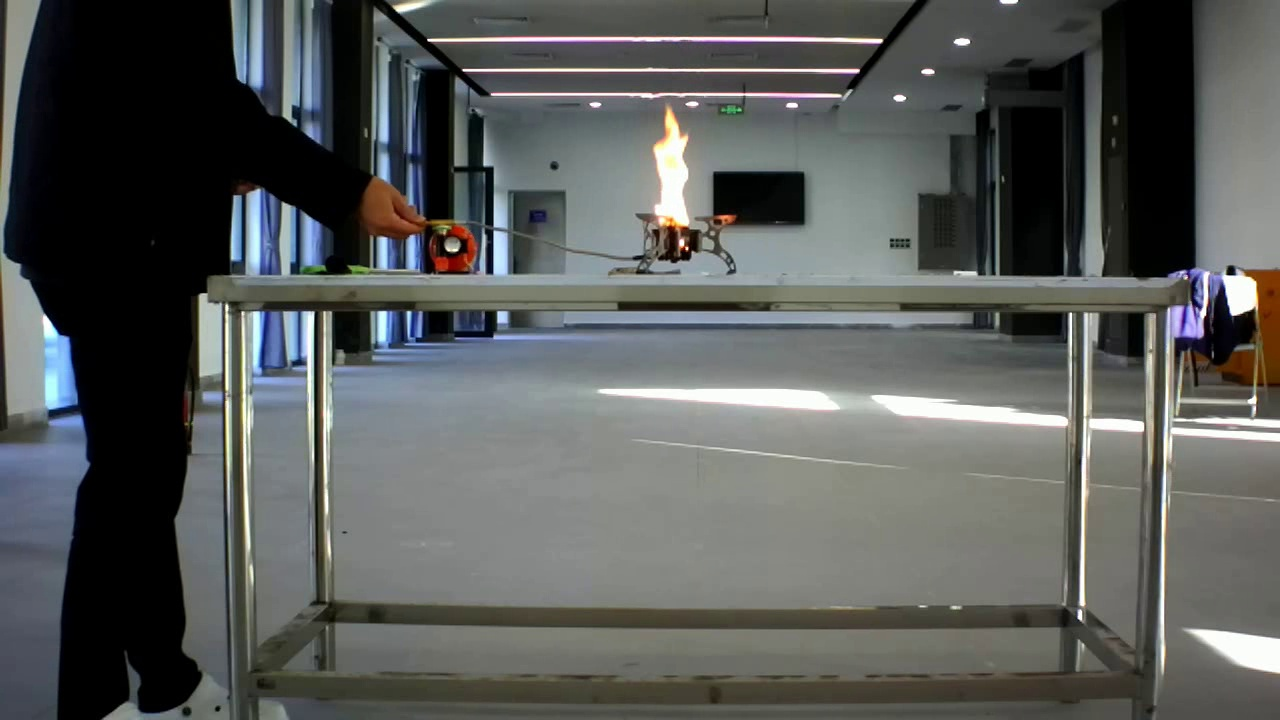Fire: (633, 101, 736, 263)
